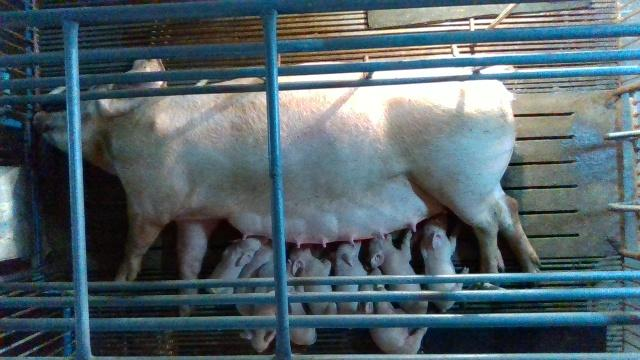piglet: (360, 267, 428, 354), (420, 211, 469, 311), (369, 230, 427, 314), (206, 237, 267, 294), (292, 247, 338, 314), (237, 244, 275, 316), (331, 241, 368, 313), (238, 287, 277, 352)
sow-sleep-lactate: (34, 59, 541, 314)
